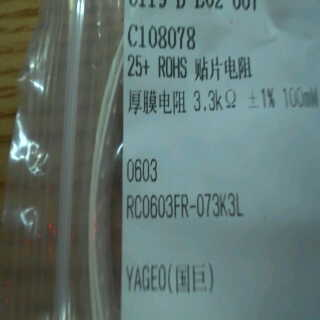3.3kO: (191, 84, 243, 115)
